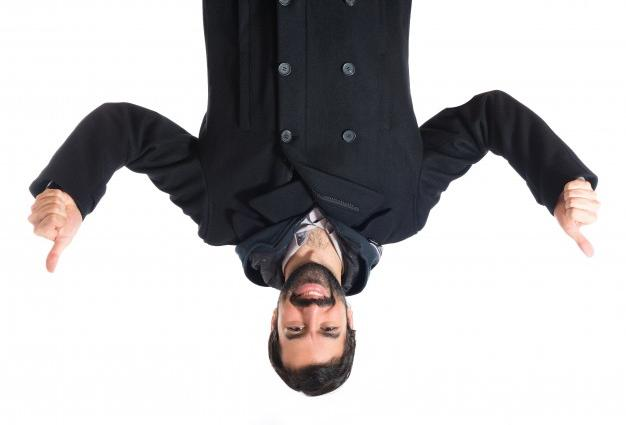thumbsdown: (28, 188, 68, 273), (563, 179, 600, 258)
